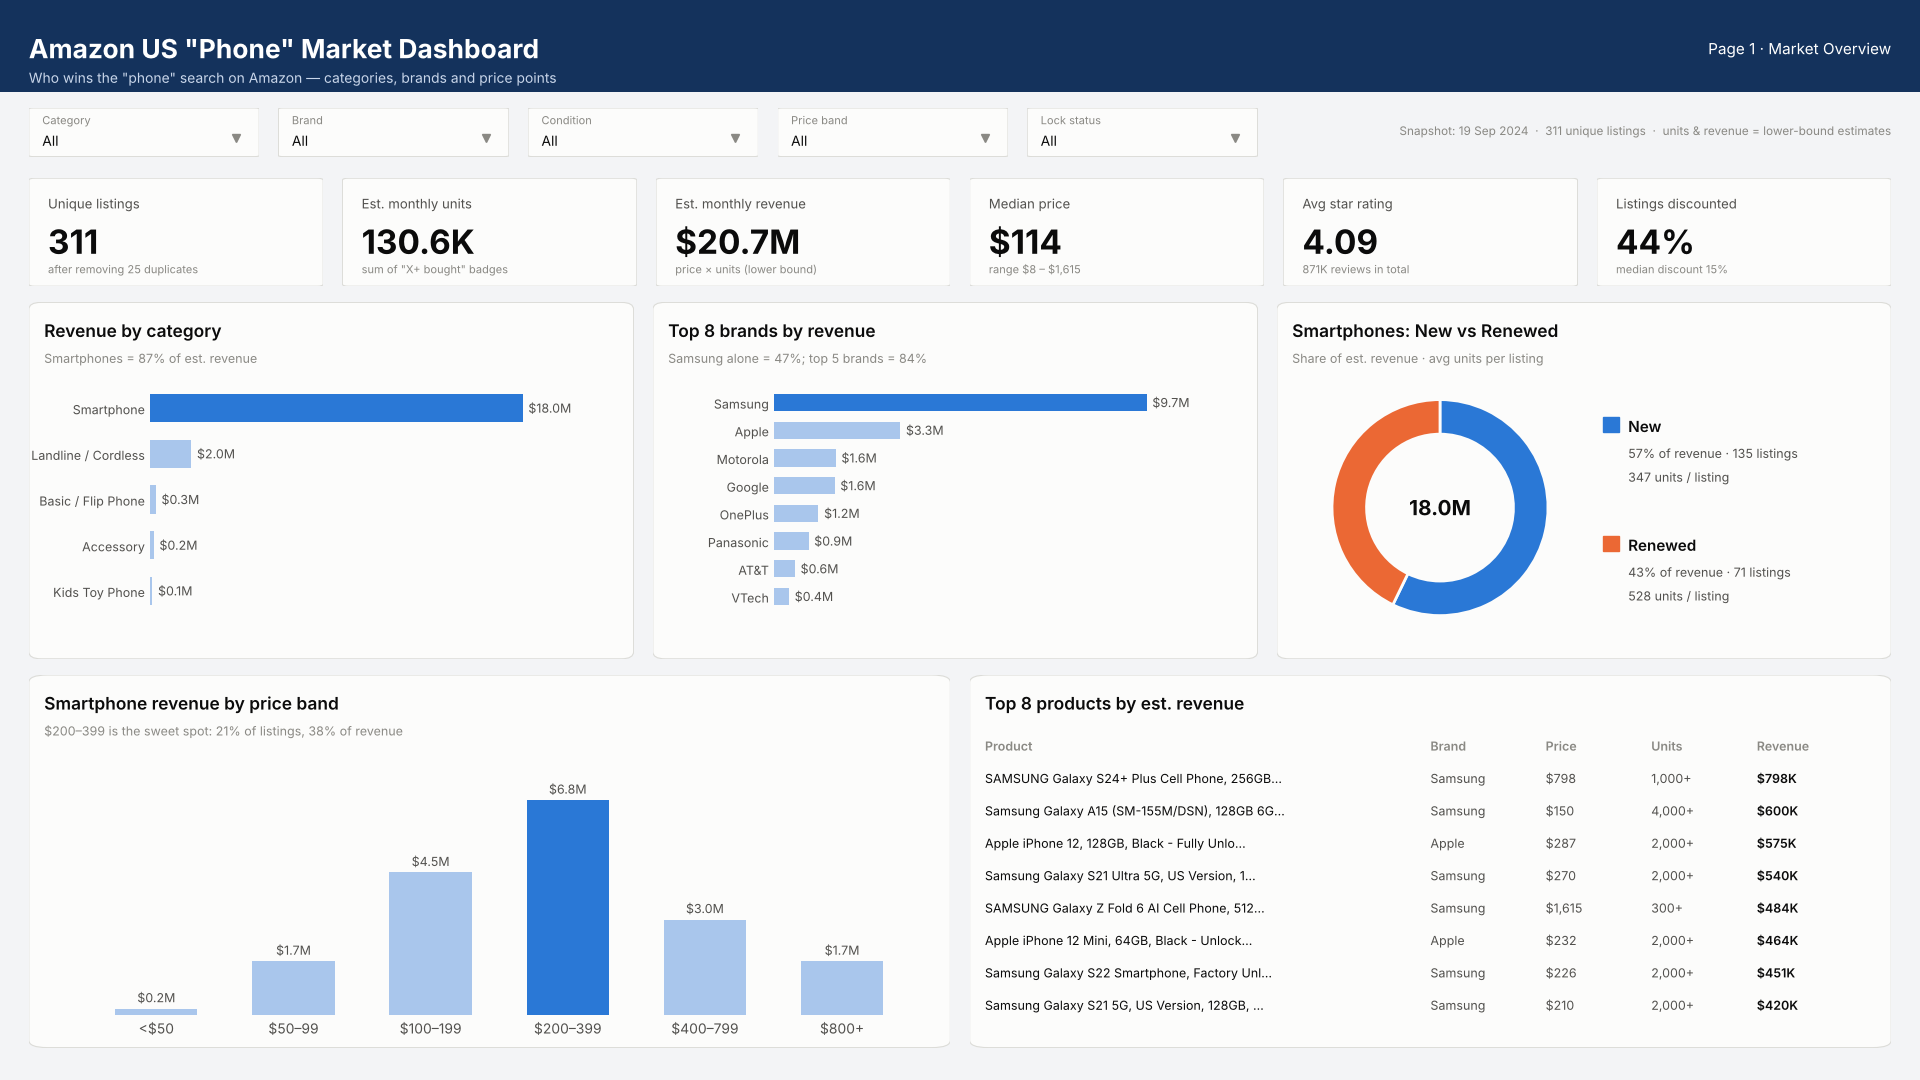

The page's visual inventory and layout, read from the dashboard file:
{"tool":"powerbi","page":{"name":"Market Overview","canvas":[1280,720],"ordinal":0},"visuals":[{"type":"textbox","box":[0,0,1000,58],"z":1000},{"type":"textbox","box":[1000,0,280,58],"z":2000},{"type":"slicer","fields":{"Values":["Dim_Category.category_name"]},"box":[16,64,150,60],"z":3000},{"type":"slicer","fields":{"Values":["Dim_Brand.brand_name"]},"box":[174,64,150,60],"z":4000},{"type":"slicer","fields":{"Values":["Fact_Listing.condition"]},"box":[332,64,150,60],"z":5000},{"type":"slicer","fields":{"Values":["Dim_PriceBand.price_band_name"]},"box":[490,64,150,60],"z":6000},{"type":"slicer","fields":{"Values":["Fact_Listing.lock_status"]},"box":[648,64,150,60],"z":7000},{"type":"card","fields":{"Values":["_Measures.Selection Note"]},"box":[812,64,452,60],"z":8000},{"type":"card","title":"Unique listings","fields":{"Values":["_Measures.Total Listings"]},"box":[16,130,201.3,92],"z":9000},{"type":"card","title":"Est. monthly units","fields":{"Values":["_Measures.Est Units"]},"box":[225.3,130,201.3,92],"z":10000},{"type":"card","title":"Est. monthly revenue","fields":{"Values":["_Measures.Est Revenue"]},"box":[434.7,130,201.3,92],"z":11000},{"type":"card","title":"Median price","fields":{"Values":["_Measures.Median Price"]},"box":[644,130,201.3,92],"z":12000},{"type":"card","title":"Avg star rating","fields":{"Values":["_Measures.Avg Rating"]},"box":[853.3,130,201.3,92],"z":13000},{"type":"card","title":"Listings discounted","fields":{"Values":["_Measures.% Listings Discounted"]},"box":[1062.7,130,201.3,92],"z":14000},{"type":"clusteredBarChart","title":"Revenue by category","fields":{"Category":["Dim_Category.category_name"],"Y":["_Measures.Est Revenue"]},"box":[16,230,410.7,238],"z":15000},{"type":"clusteredBarChart","fields":{"Category":["Dim_Brand.brand_name"],"Y":["_Measures.Top 8 Brand Revenue"]},"box":[434.7,230,410.7,238],"z":16000},{"type":"donutChart","title":"Smartphones: New vs Renewed","fields":{"Category":["Fact_Listing.condition"],"Y":["_Measures.Smartphone Revenue"]},"box":[853.3,230,410.7,238],"z":17000},{"type":"clusteredColumnChart","title":"Smartphone revenue by price band","fields":{"Category":["Dim_PriceBand.price_band_name"],"Y":["_Measures.Smartphone Revenue"]},"box":[16,476,560,236],"z":18000},{"type":"tableEx","title":"Top 8 products by est. revenue","fields":{"Values":["Fact_Listing.asin","Fact_Listing.product_short","Fact_Listing.brand","_Measures.Top 8 Price","_Measures.Top 8 Units","_Measures.Top 8 Revenue"]},"box":[584,476,680,236],"z":19000}]}

Visuals, with their boxes in screenshot pixels (x1, y1, x2, y2), scaled from the page's 1280x720 canvas onto the 1920x1080 screenshot:
textbox: rect(0, 0, 1500, 87)
textbox: rect(1500, 0, 1919, 87)
slicer - Dim_Category.category_name: rect(24, 96, 249, 186)
slicer - Dim_Brand.brand_name: rect(261, 96, 486, 186)
slicer - Fact_Listing.condition: rect(498, 96, 723, 186)
slicer - Dim_PriceBand.price_band_name: rect(735, 96, 960, 186)
slicer - Fact_Listing.lock_status: rect(972, 96, 1197, 186)
card - _Measures.Selection Note: rect(1218, 96, 1896, 186)
"Unique listings" card: rect(24, 195, 326, 333)
"Est. monthly units" card: rect(338, 195, 640, 333)
"Est. monthly revenue" card: rect(652, 195, 954, 333)
"Median price" card: rect(966, 195, 1268, 333)
"Avg star rating" card: rect(1280, 195, 1582, 333)
"Listings discounted" card: rect(1594, 195, 1896, 333)
"Revenue by category" clusteredBarChart: rect(24, 345, 640, 702)
clusteredBarChart - Dim_Brand.brand_name x _Measures.Top 8 Brand Revenue: rect(652, 345, 1268, 702)
"Smartphones: New vs Renewed" donutChart: rect(1280, 345, 1896, 702)
"Smartphone revenue by price band" clusteredColumnChart: rect(24, 714, 864, 1068)
"Top 8 products by est. revenue" tableEx: rect(876, 714, 1896, 1068)
